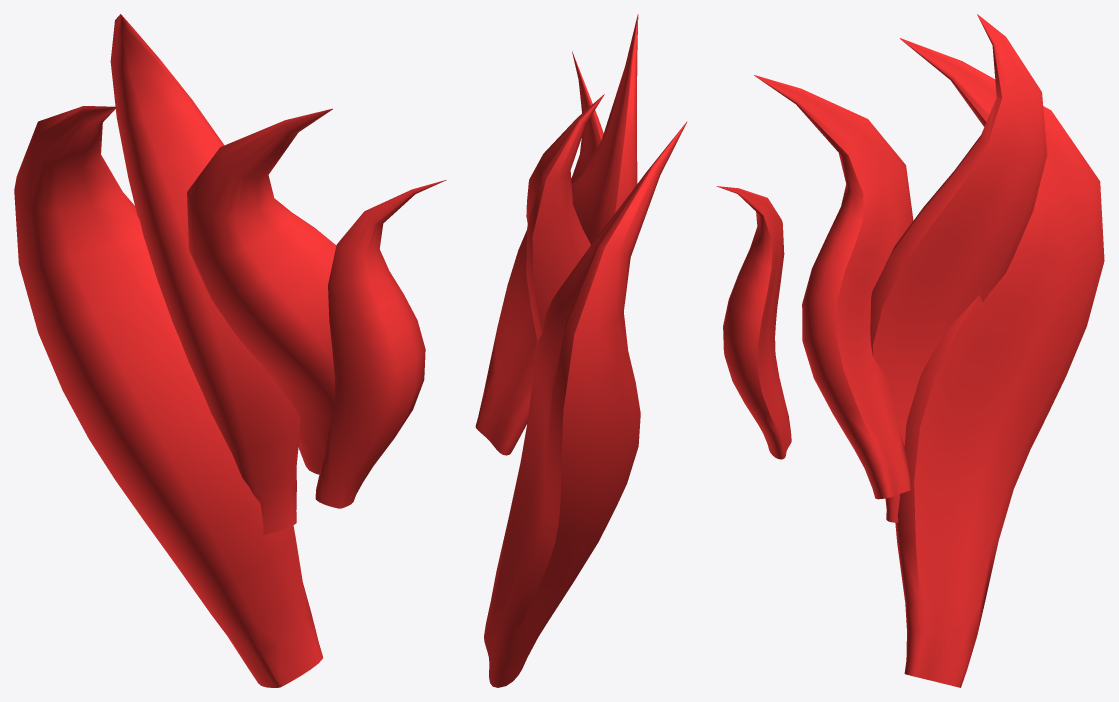
The picture shows the model from 3 angles, left to right: view 1: azimuth 30°, elevation 25°; view 2: azimuth 150°, elevation 25°; view 3: azimuth 270°, elevation 25°; orthographic projection. The views are drawn at different scales.
Visible parts, largest first — view 1: hat; view 2: hat; view 3: hat.
Part boxes in pixels (box(x1,y1,x2,y2)): hat: box(14, 14, 446, 687); hat: box(475, 14, 687, 687); hat: box(716, 14, 1104, 687).
Size of the model in its own units: 28.01 by 43.28 by 76.
